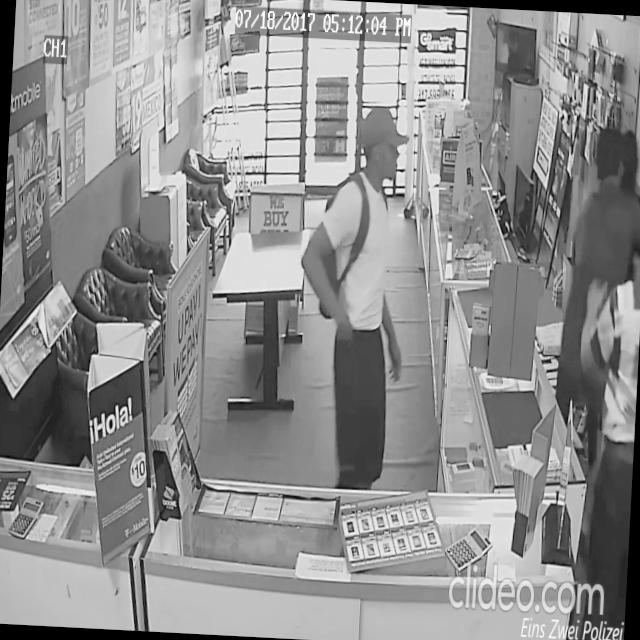gun: (334, 316, 366, 371)
person: (546, 120, 640, 565), (563, 187, 640, 640), (571, 115, 640, 469)
person with a gun: (288, 98, 418, 490)
